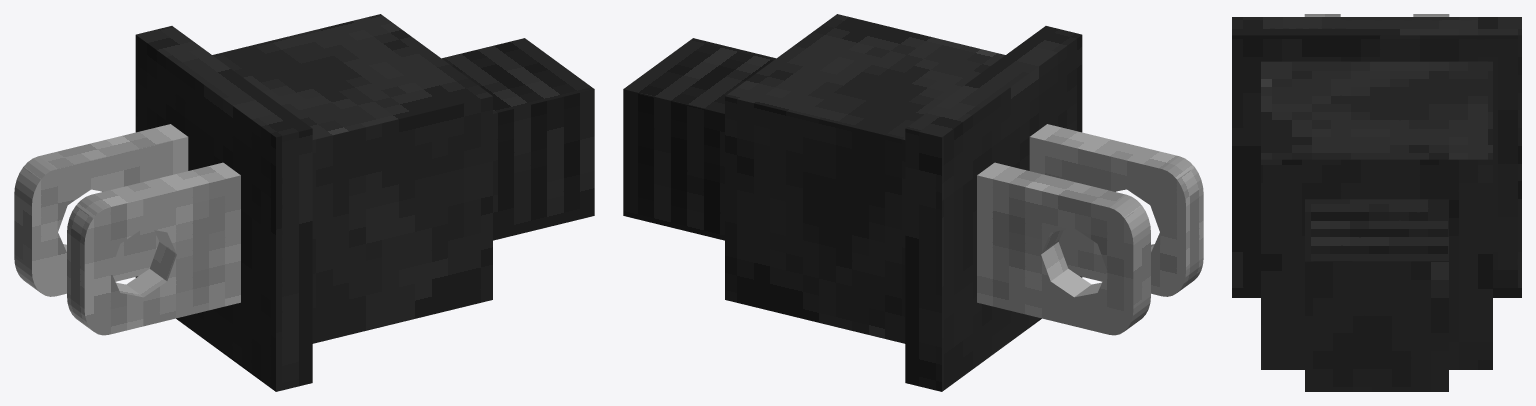
File: ElectricPlug.obj
3 renders of one model, left to right at view 1: azimuth 30°, elevation 25°; view 2: azimuth 150°, elevation 25°; view 3: azimuth 270°, elevation 25°, orthographic. The views are drawn at different scales.
Visible parts, largest first — view 1: Electric_Plug(Appliances); view 2: Electric_Plug(Appliances); view 3: Electric_Plug(Appliances).
Boxes of the visible parts, x1,y1,x2,y2 form: Electric_Plug(Appliances): [14, 14, 594, 391]; Electric_Plug(Appliances): [623, 14, 1203, 391]; Electric_Plug(Appliances): [1232, 14, 1521, 391].
Size of the model in its own units: 2.64 by 1.26 by 1.26.
